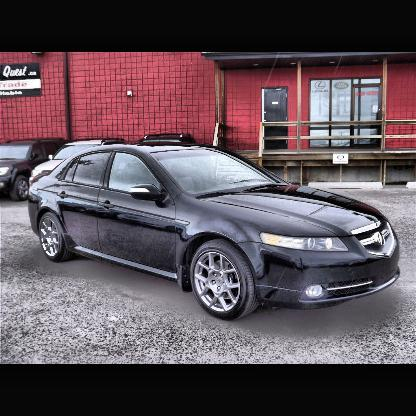Acura TL Type-S 2008: (27, 143, 404, 324)
